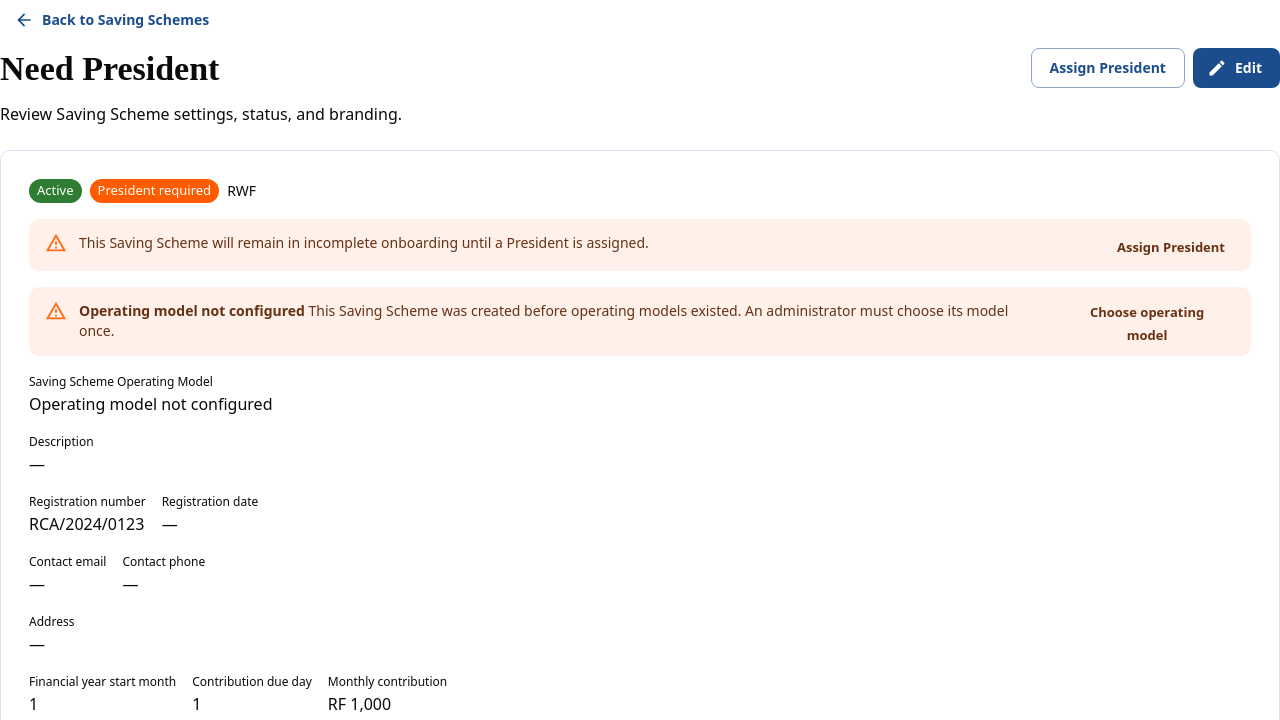
Scenario: CooperativeDetailPage onboarding › assigns a President through the administrators wrapper and clears the warning
The width and height of the screenshot is (1280, 720).
Click the button "Assign President" in the row of "Need President" at (1108, 68), box left=1031, top=48, right=1185, bottom=88
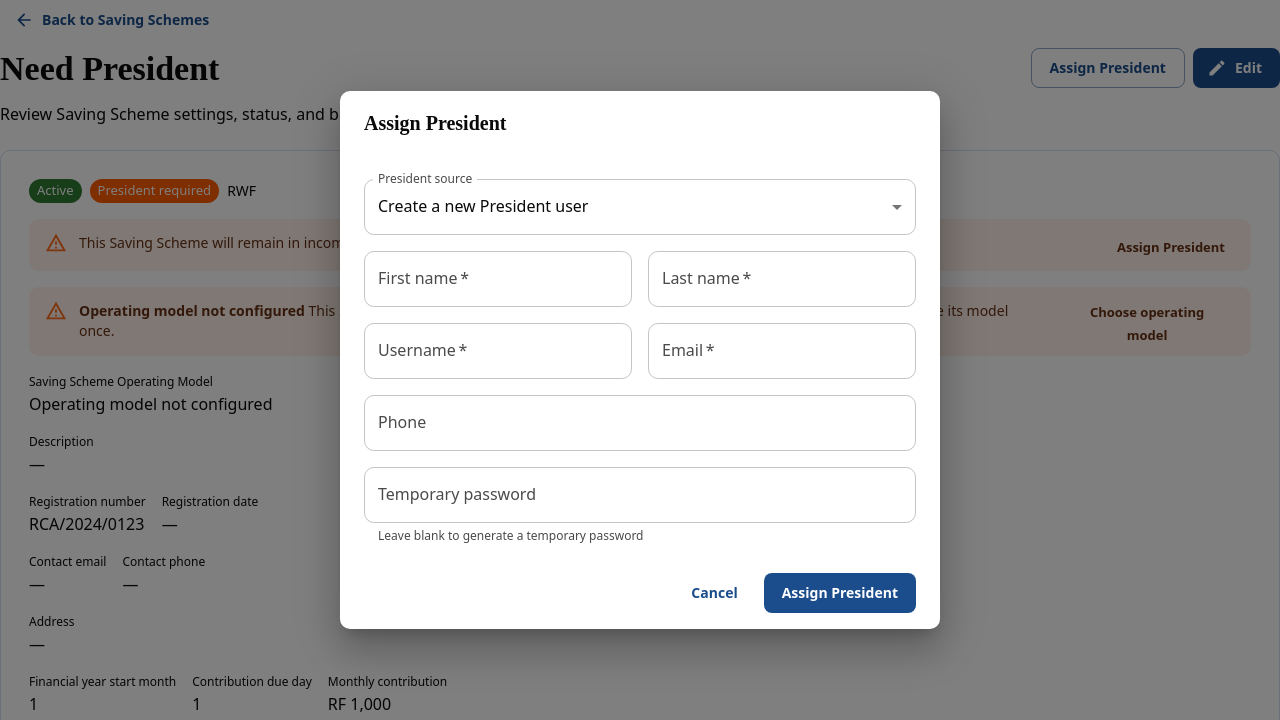
Type "Pat" into the field labelled "First name *" at (498, 278), box left=364, top=250, right=632, bottom=306
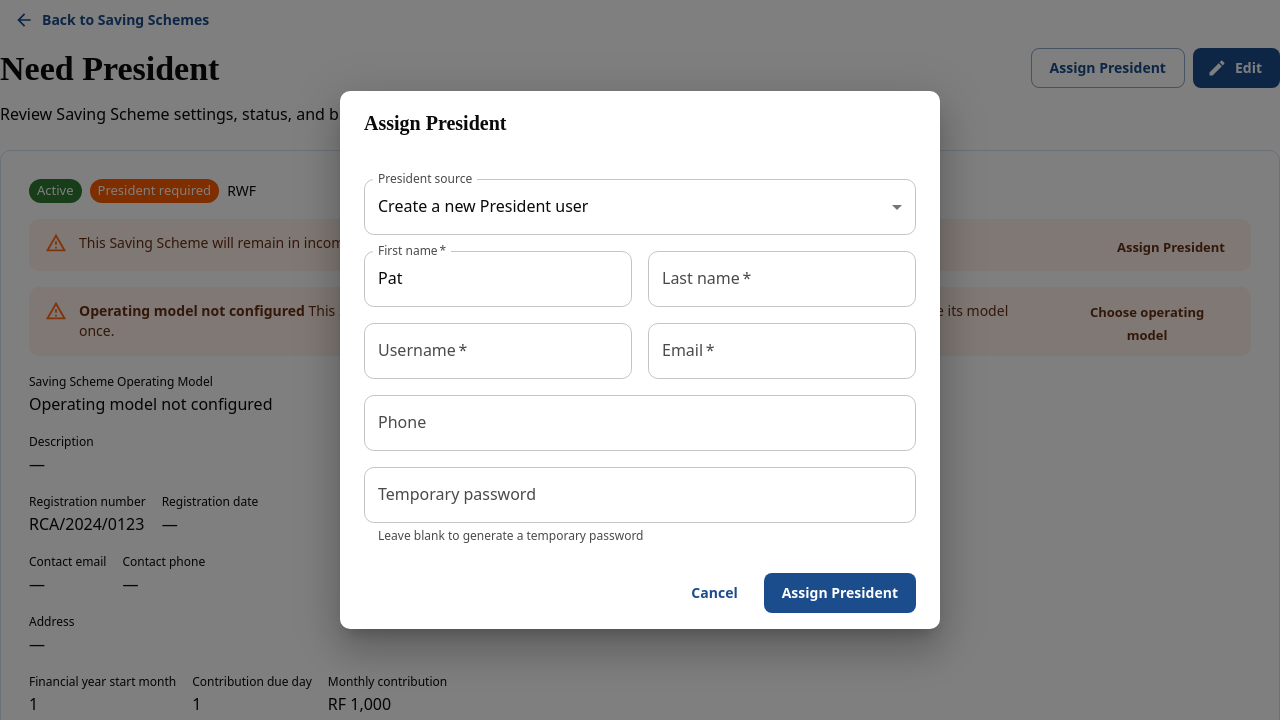
Type "President" into the field labelled "Last name *" at (782, 278), box left=648, top=250, right=916, bottom=306
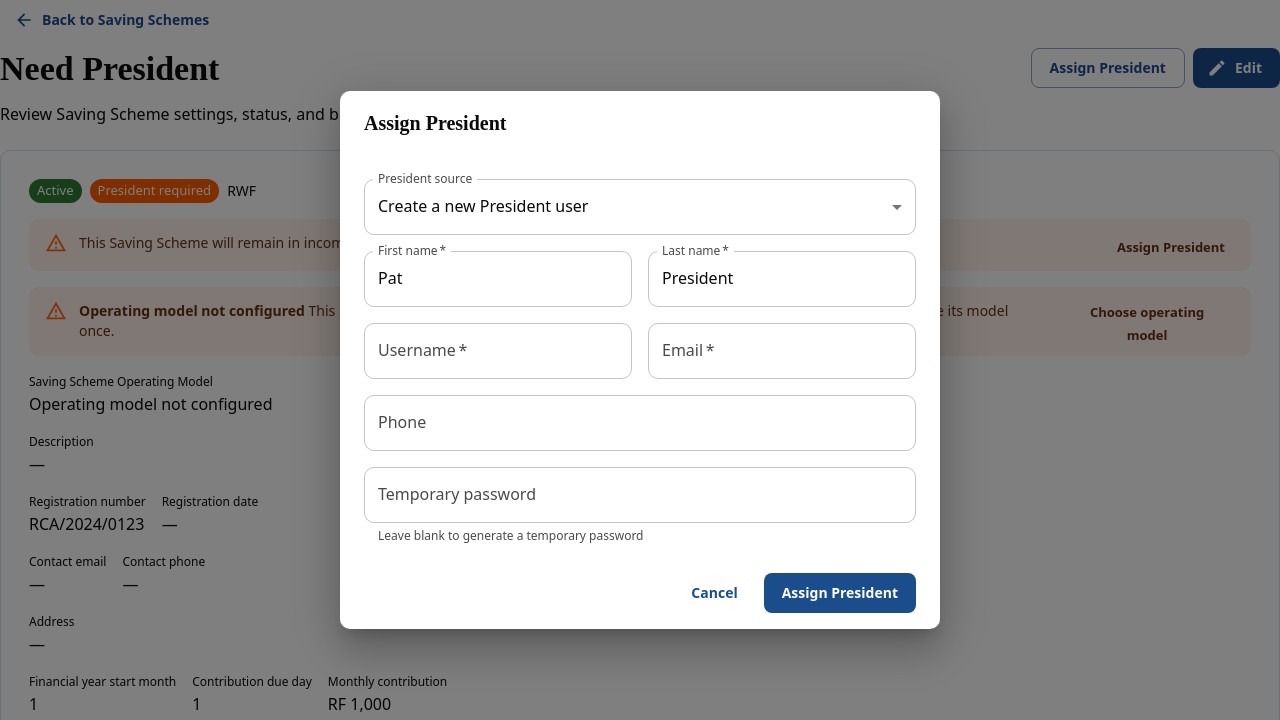
Type "pat.president" into the field labelled "Username *" at (498, 350), box left=364, top=322, right=632, bottom=378
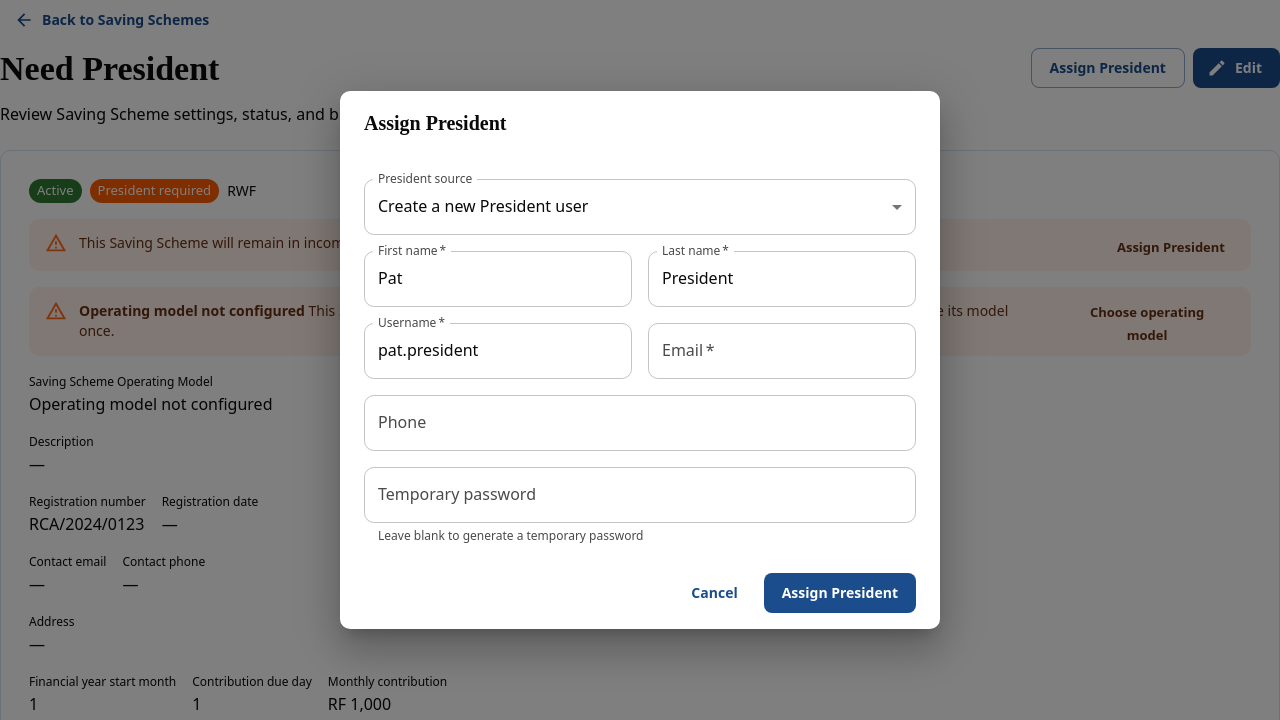
Type "pat@test.local" into the field labelled "Email *" at (782, 350), box left=648, top=322, right=916, bottom=378
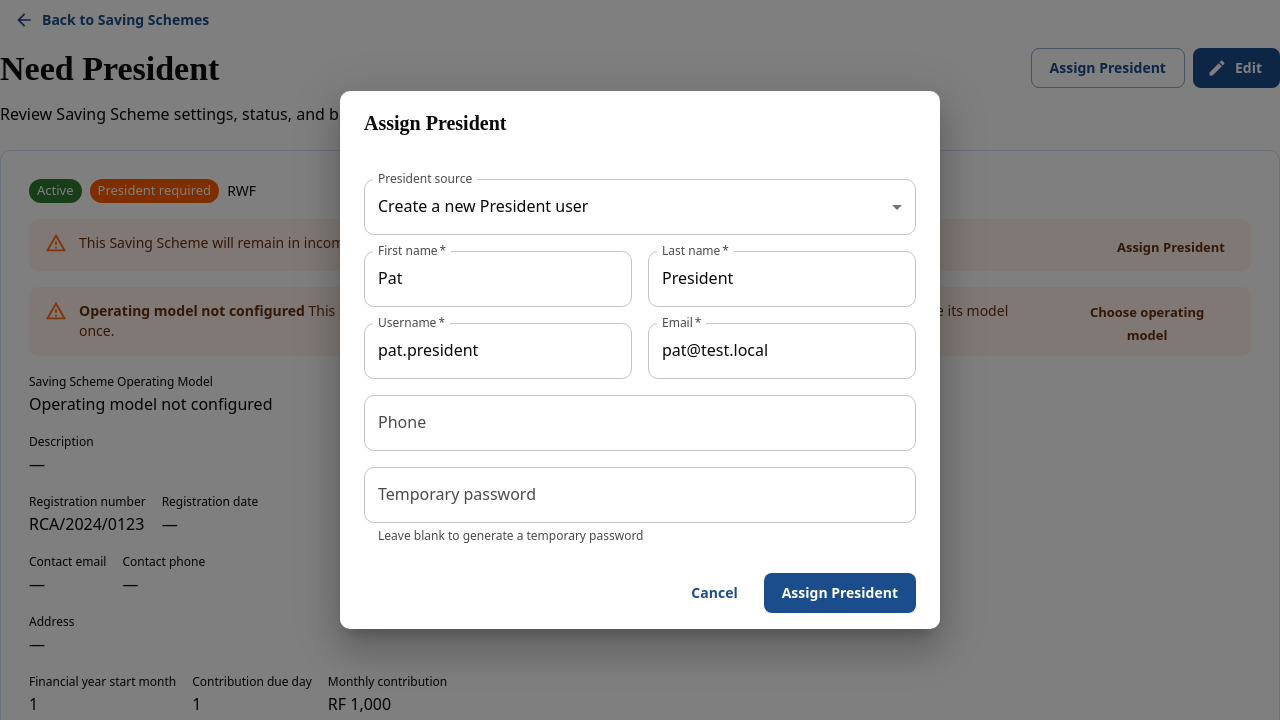
Click the button "Assign President" at (840, 594), box left=764, top=574, right=916, bottom=614
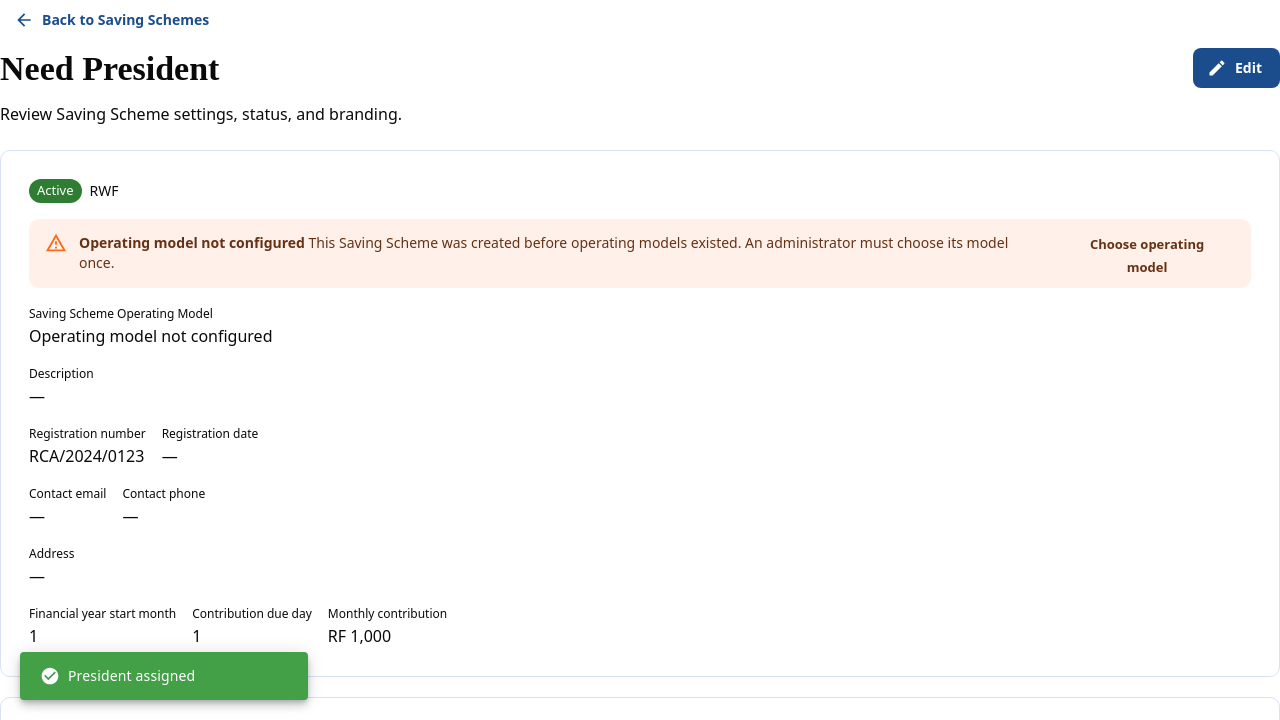
Check: the text "This Saving Scheme will remain in incomplete onboarding until a President is assigned." is gone
